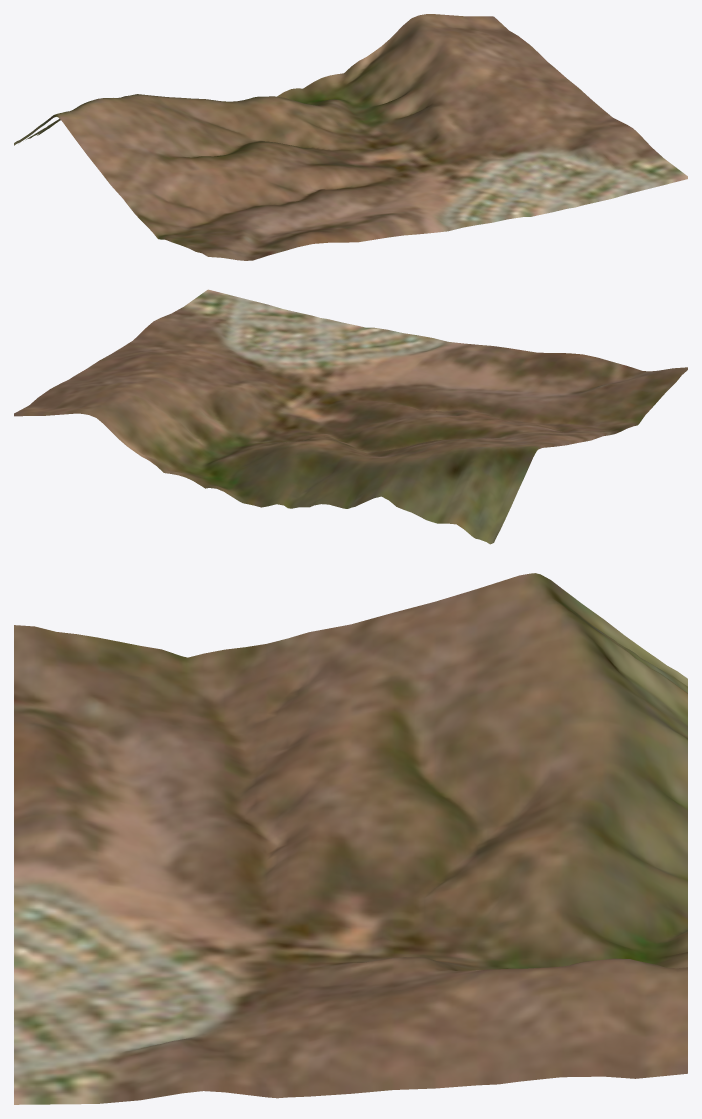
Rendered from terrain_r0_c4_lod1.glb.
The picture shows the model from 3 angles, top to bottom: view 1: azimuth 30°, elevation 25°; view 2: azimuth 150°, elevation 25°; view 3: azimuth 270°, elevation 25°; orthographic projection. The views are drawn at different scales.
Parts seen in each view (by area): view 1: terrain_r0_c4_lod1; view 2: terrain_r0_c4_lod1; view 3: terrain_r0_c4_lod1.
Part boxes in pixels (left/top/right/bottom): terrain_r0_c4_lod1: left=14, top=14, right=687, bottom=260; terrain_r0_c4_lod1: left=14, top=289, right=687, bottom=544; terrain_r0_c4_lod1: left=14, top=573, right=687, bottom=1104.
Size of the model in its own units: 1125 by 191 by 787.
1 material, 1 textured.
